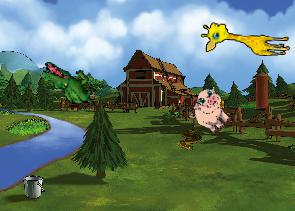crocodile: (36, 60, 102, 108)
giraffe: (200, 21, 291, 56)
pig: (183, 83, 239, 139)
